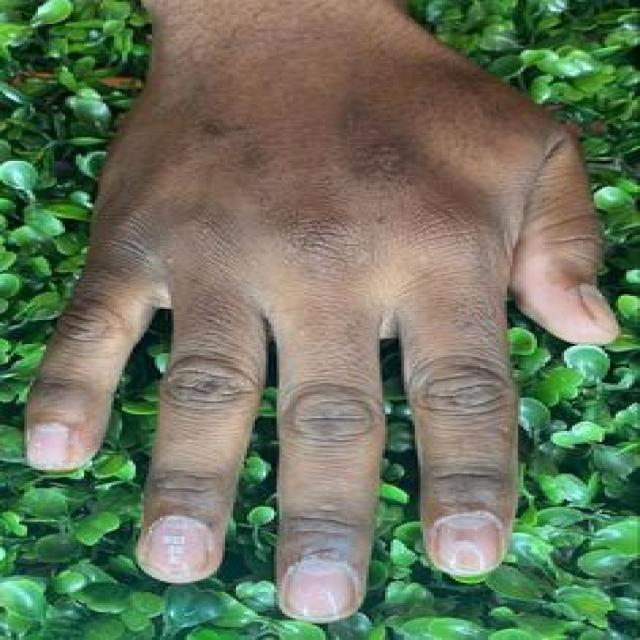Fingernail: (286, 563, 354, 618), (147, 519, 209, 579), (438, 517, 501, 572), (581, 285, 620, 335), (27, 422, 69, 466)
